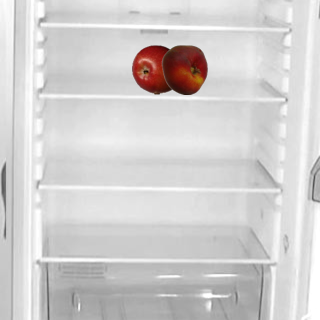Apple Braeburn: (131, 44, 181, 94)
Nectarine Flat: (159, 44, 209, 94)
